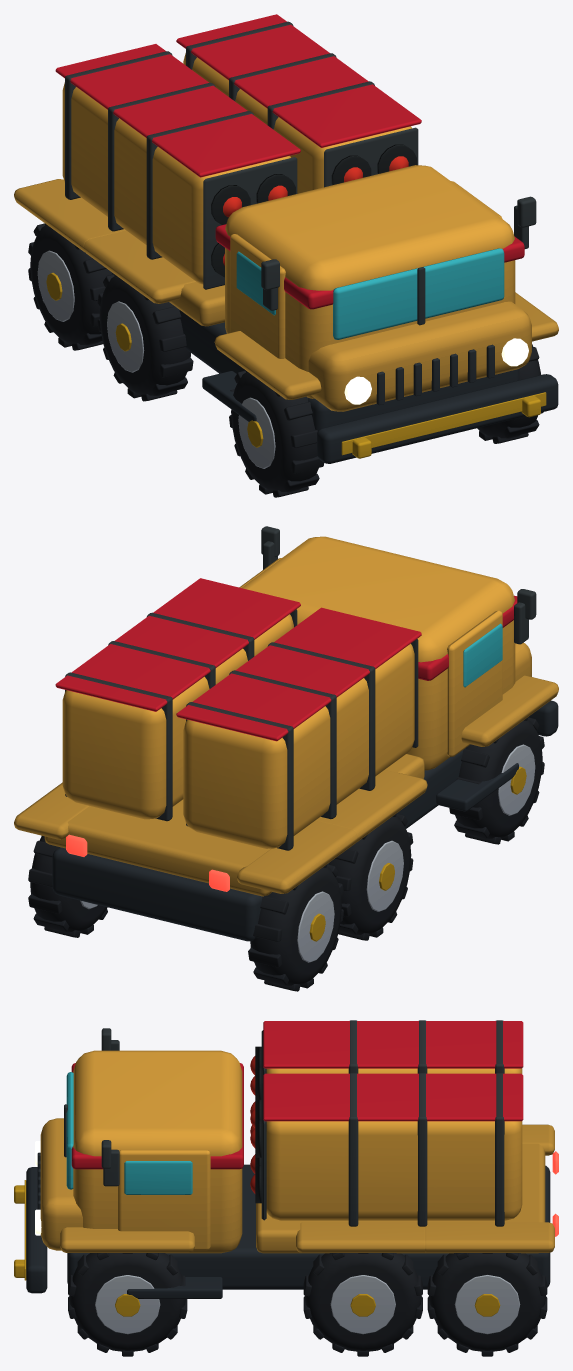
The model's file is missileTruck.glb.
3 views of the same model, one above another, from view 1: azimuth 30°, elevation 25°; view 2: azimuth 150°, elevation 25°; view 3: azimuth 270°, elevation 25° (orthographic). The views are drawn at different scales.
Parts seen in each view (by area): view 1: Armored cabin, Magazine stripe, Magazine stripe.001, Twin missile magazine, Sloped engine hood, Split windshield, Steel front bumper, All terrain tire.001, All terrain tire, Heavy ladder chassis, All terrain tire.002, Wheel arch.001 (+28 smaller); view 2: Twin missile magazine, Armored cabin, Twin missile magazine.001, Magazine stripe.001, Magazine stripe, Heavy ladder chassis, Launcher flatbed, All terrain tire.002, Wheel arch.002, Armored side door, All terrain tire, All terrain tire.001 (+17 smaller); view 3: Twin missile magazine.001, Armored cabin, Magazine stripe.001, Magazine stripe, Heavy ladder chassis, All terrain tire.004, All terrain tire.005, All terrain tire.003, Armored side door.001, Launcher flatbed, Wheel arch.005, Wheel arch.004 (+20 smaller).
Part boxes in pixels (x1,y1,x2,y2): Armored cabin: (225, 165, 515, 398); Magazine stripe: (55, 44, 300, 177); Magazine stripe.001: (176, 14, 421, 147); Twin missile magazine: (62, 82, 290, 284); Sloped engine hood: (308, 301, 531, 411); Split windshield: (333, 248, 504, 339); Steel front bumper: (317, 374, 558, 463); All terrain tire.001: (99, 276, 190, 395); All terrain tire: (231, 373, 318, 492); Heavy ladder chassis: (112, 273, 519, 430); All terrain tire.002: (30, 226, 112, 345); Wheel arch.001: (84, 230, 195, 303); Twin missile magazine: (183, 643, 414, 848); Armored cabin: (241, 536, 515, 770); Twin missile magazine.001: (62, 614, 293, 819); Magazine stripe.001: (55, 578, 300, 711); Magazine stripe: (176, 607, 421, 741); Heavy ladder chassis: (52, 748, 465, 941); Launcher flatbed: (44, 754, 424, 896); All terrain tire.002: (250, 866, 341, 985); Wheel arch.002: (237, 820, 357, 893); Armored side door: (447, 610, 502, 756); All terrain tire: (455, 719, 542, 839); All terrain tire.001: (329, 816, 411, 935); Twin missile magazine.001: (266, 1121, 522, 1220); Armored cabin: (73, 1050, 242, 1253); Magazine stripe.001: (263, 1073, 523, 1121); Magazine stripe: (263, 1021, 523, 1068); Heavy ladder chassis: (67, 1164, 550, 1289); All terrain tire.004: (304, 1253, 421, 1351); All terrain tire.005: (429, 1253, 545, 1351); All terrain tire.003: (69, 1253, 185, 1351); Armored side door.001: (118, 1150, 210, 1250); Launcher flatbed: (256, 1143, 545, 1253); Wheel arch.005: (425, 1222, 554, 1252); Wheel arch.004: (296, 1222, 425, 1252).
Size of the model in its own units: 3.5 by 3.18 by 6.71.
11 materials, 8 textured.
